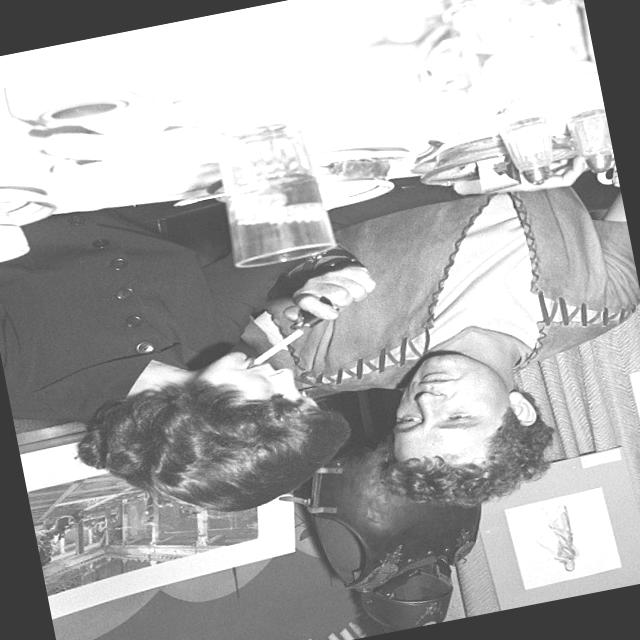cigarette: (258, 326, 318, 358)
